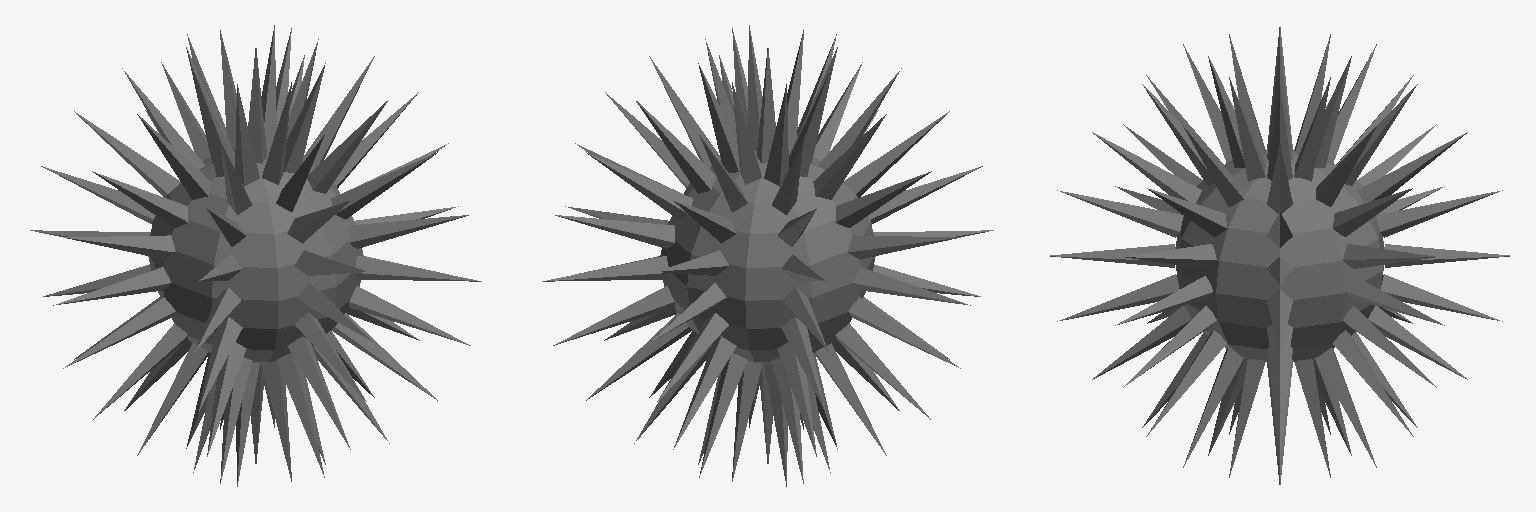
Rendered from spike.obj.
3 views of the same model, side by side, from view 1: azimuth 30°, elevation 25°; view 2: azimuth 150°, elevation 25°; view 3: azimuth 270°, elevation 25° (orthographic).
Visible parts, largest first — view 1: pCone153; view 2: pCone153; view 3: pCone153.
Part boxes in pixels (bbox=[...]): pCone153: bbox=[30, 25, 481, 486]; pCone153: bbox=[542, 25, 993, 486]; pCone153: bbox=[1050, 27, 1509, 484].
Bounding box in the file's own units: 4.32 × 4.32 × 4.32.